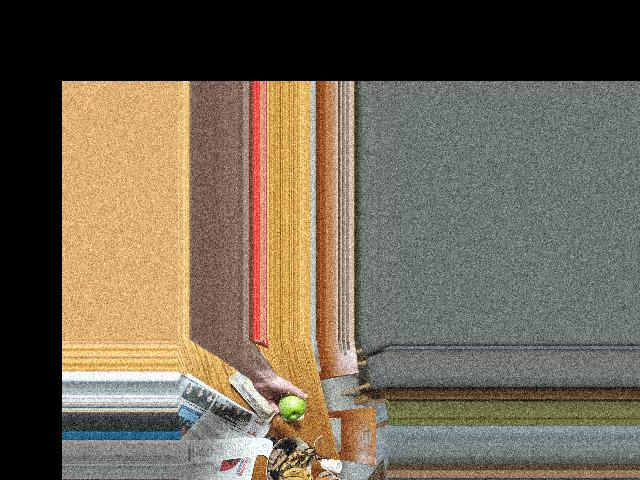apple: (275, 388, 306, 421)
